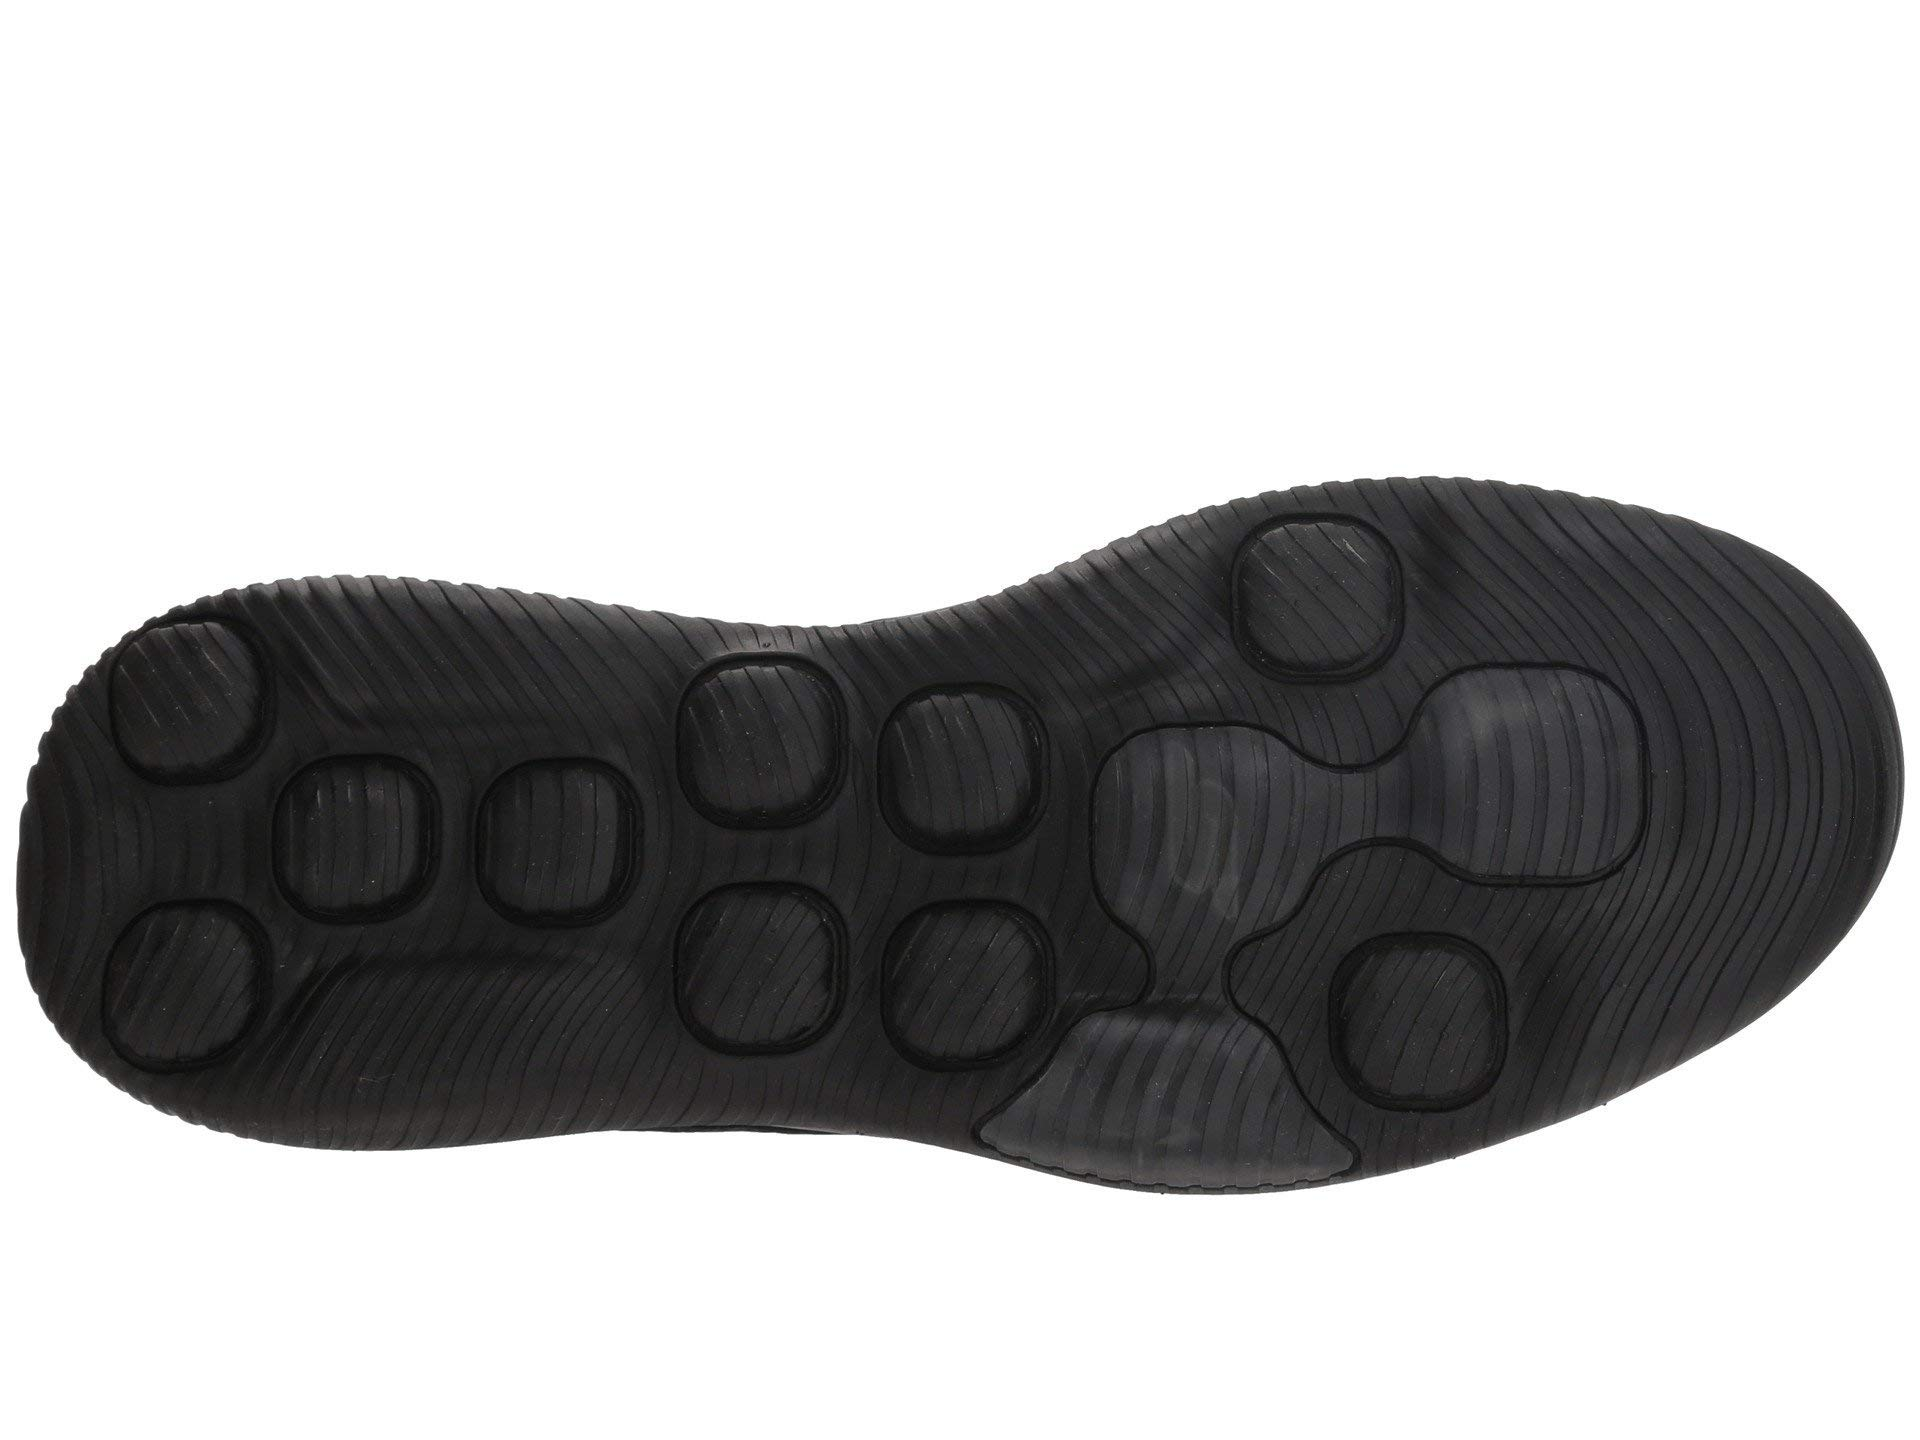line: (260, 585, 680, 1137), (1051, 661, 1654, 948)
quad: (260, 585, 680, 1137)
